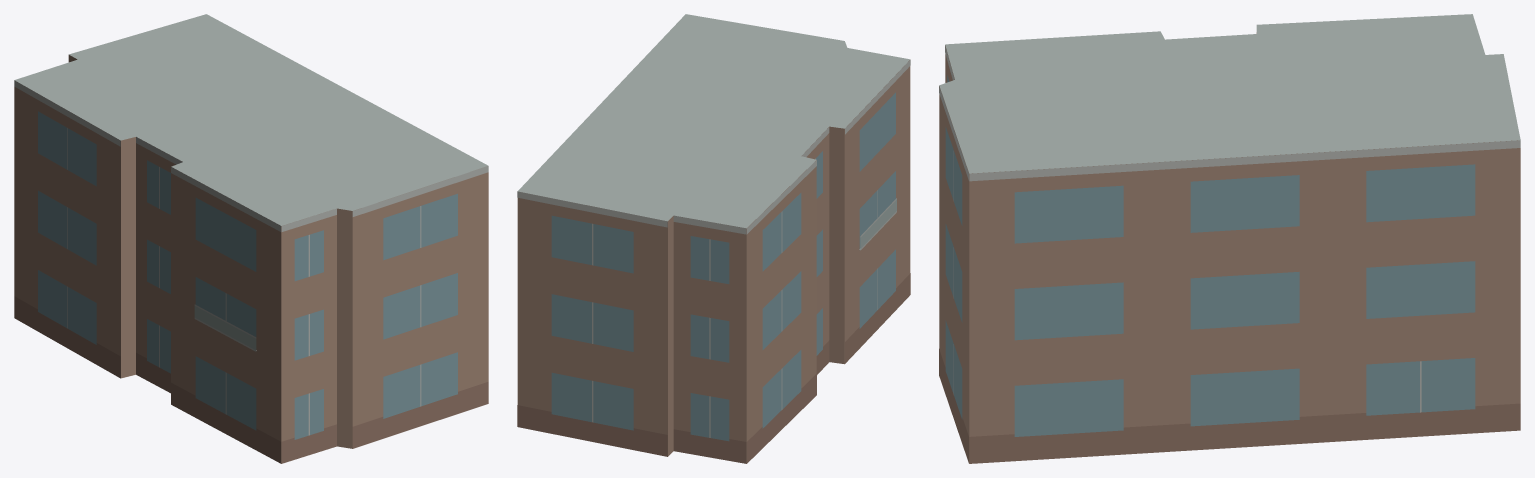
File: survey-upis-32934452.glb
3 renders of one model, left to right at view 1: azimuth 30°, elevation 25°; view 2: azimuth 150°, elevation 25°; view 3: azimuth 270°, elevation 25°, orthographic. The views are drawn at different scales.
Visible parts, largest first — view 1: survey-upis-32934452.tmp; view 2: survey-upis-32934452.tmp; view 3: survey-upis-32934452.tmp.
Boxes of the visible parts, <box> form: survey-upis-32934452.tmp: <box>14,14,488,463</box>; survey-upis-32934452.tmp: <box>517,14,910,463</box>; survey-upis-32934452.tmp: <box>939,14,1520,463</box>.
Size of the model in its own units: 10.8 by 9.15 by 16.62.
